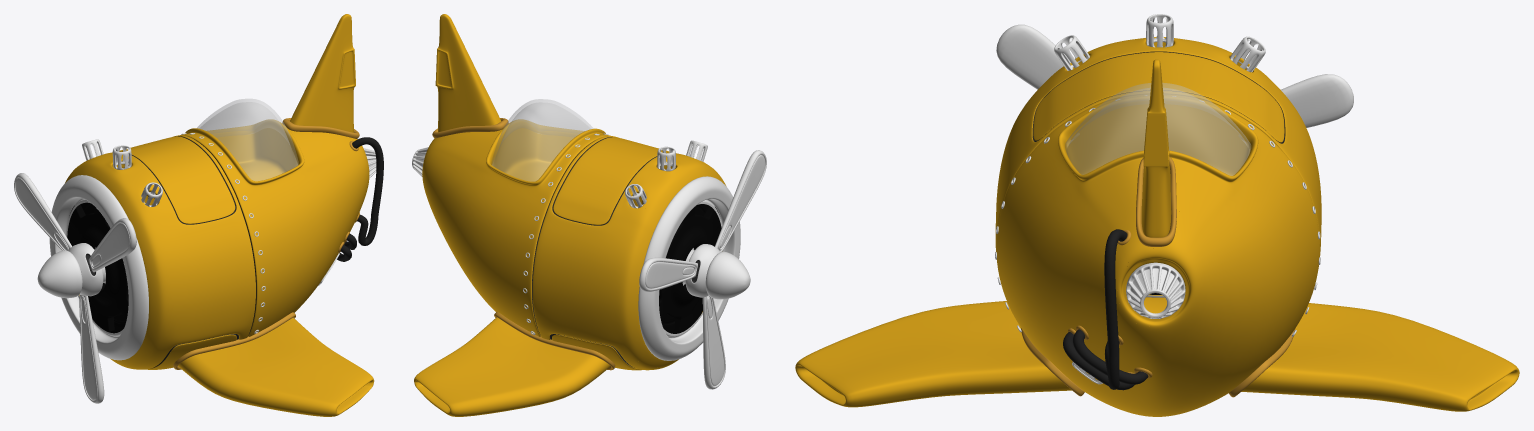
The model's file is airplane.glb.
3 renders of one model, left to right at view 1: azimuth 30°, elevation 25°; view 2: azimuth 150°, elevation 25°; view 3: azimuth 270°, elevation 25°, orthographic. The views are drawn at different scales.
Visible parts, largest first — view 1: Cylinder_0, Circle.003_7, Cylinder.003_4, Circle_3, Cylinder.006_24, Plane.001_11, Circle.004_8, BezierCurve.005_36, Circle.002_6, Cylinder.002_2, Circle.005_9, Plane.002_12 (+1 smaller); view 2: Cylinder_0, Circle.003_7, Cylinder.003_4, Circle_3, Cylinder.006_24, Plane.001_11, Circle.004_8, Circle.002_6, Cylinder.002_2, Circle.005_9, Plane.002_12, Cylinder.001_1; view 3: Cylinder_0, Circle.003_7, Cylinder.006_24, Cylinder.003_4, Plane.001_11, Circle.001_5, BezierCurve.005_36, Cylinder.002_2, Plane.002_12, Circle.002_6, BezierCurve.004_35, Cylinder.001_1 (+1 smaller).
Part boxes in pixels (bbox=[...]): Cylinder_0: bbox=[65, 119, 369, 369]; Circle.003_7: bbox=[178, 317, 374, 416]; Cylinder.003_4: bbox=[14, 173, 136, 403]; Circle_3: bbox=[49, 175, 148, 360]; Cylinder.006_24: bbox=[197, 99, 298, 180]; Plane.001_11: bbox=[290, 14, 355, 132]; Circle.004_8: bbox=[69, 204, 128, 331]; BezierCurve.005_36: bbox=[352, 137, 383, 245]; Circle.002_6: bbox=[173, 312, 295, 369]; Cylinder.002_2: bbox=[82, 139, 162, 206]; Circle.005_9: bbox=[67, 202, 125, 333]; Plane.002_12: bbox=[282, 118, 359, 138]; Cylinder_0: bbox=[422, 119, 726, 370]; Circle.003_7: bbox=[414, 317, 610, 416]; Cylinder.003_4: bbox=[639, 150, 766, 389]; Circle_3: bbox=[638, 176, 740, 360]; Cylinder.006_24: bbox=[492, 99, 593, 181]; Plane.001_11: bbox=[435, 14, 500, 132]; Circle.004_8: bbox=[659, 205, 720, 332]; Circle.002_6: bbox=[494, 312, 615, 370]; Cylinder.002_2: bbox=[625, 140, 707, 208]; Circle.005_9: bbox=[662, 204, 721, 333]; Plane.002_12: bbox=[432, 118, 508, 138]; Cylinder.001_1: bbox=[657, 146, 675, 171]; Cylinder_0: bbox=[995, 37, 1321, 416]; Circle.003_7: bbox=[795, 301, 1519, 411]; Cylinder.006_24: bbox=[1065, 83, 1250, 175]; Cylinder.003_4: bbox=[996, 24, 1353, 127]; Plane.001_11: bbox=[1141, 59, 1171, 237]; Circle.001_5: bbox=[1126, 262, 1185, 318]; BezierCurve.005_36: bbox=[1104, 229, 1127, 389]; Cylinder.002_2: bbox=[1054, 35, 1265, 72]; Plane.002_12: bbox=[1136, 157, 1176, 246]; Circle.002_6: bbox=[1020, 327, 1294, 397]; BezierCurve.004_35: bbox=[1073, 329, 1148, 384]; Cylinder.001_1: bbox=[1146, 14, 1173, 47].
Bounding box in the file's own units: 2.58 × 2.34 × 3.29.
